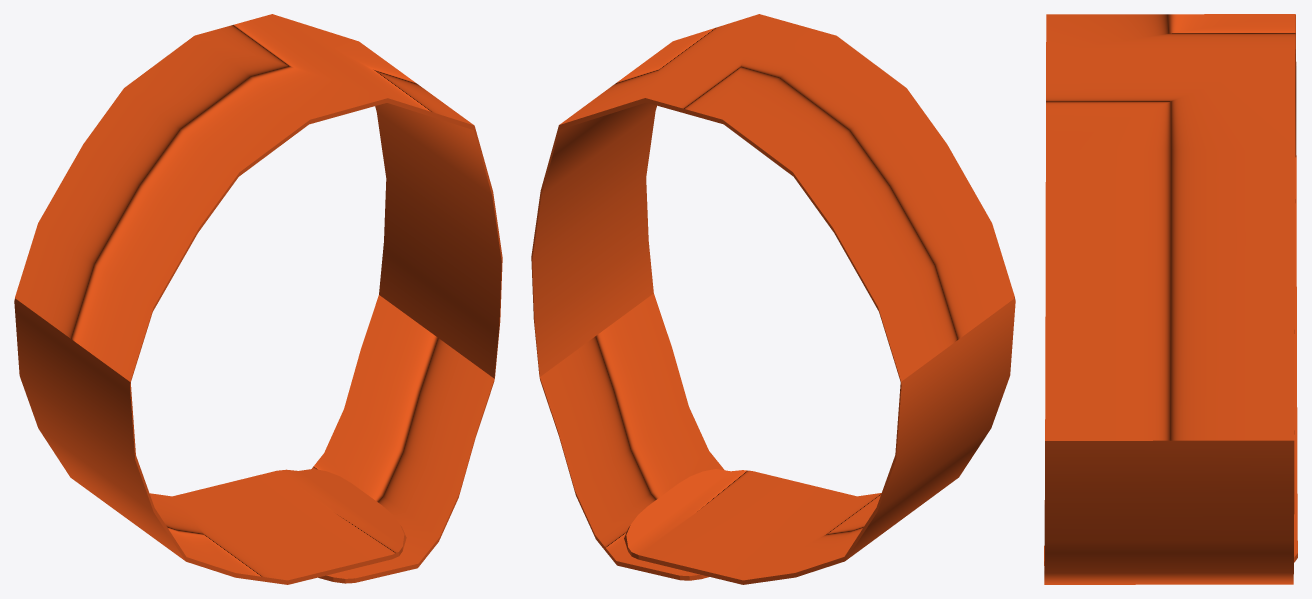
The model's file is ligatorcida.fbx.
3 renders of one model, left to right at view 1: azimuth 30°, elevation 25°; view 2: azimuth 150°, elevation 25°; view 3: azimuth 270°, elevation 25°, orthographic. The views are drawn at different scales.
Visible parts, largest first — view 1: Cube.001; view 2: Cube.001; view 3: Cube.001.
Boxes of the visible parts, box(x1,y1,x2,y2) form: Cube.001: box(14, 14, 502, 584); Cube.001: box(531, 14, 1015, 584); Cube.001: box(1044, 14, 1297, 584).
Bounding box in the file's own units: 17.76 × 21.71 × 9.66.
